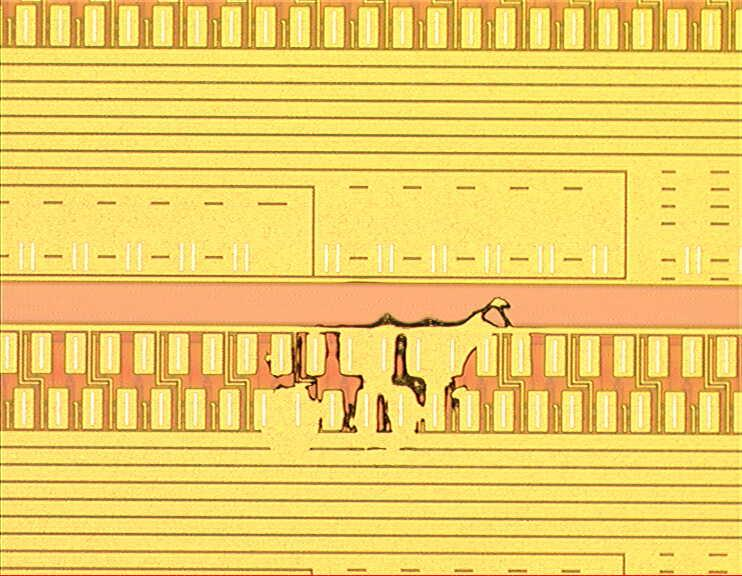BLOCK ETCH: (255, 291, 525, 465)
